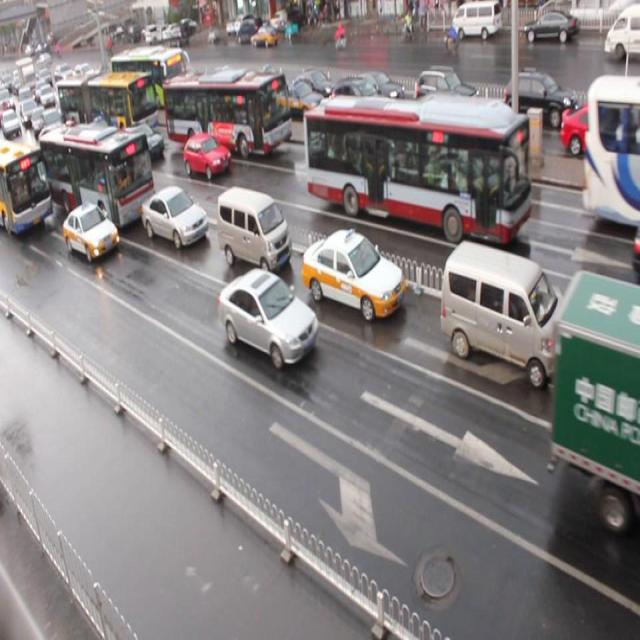bus: (550, 269, 640, 533)
car: (218, 269, 319, 369), (300, 228, 404, 321), (141, 185, 208, 250), (62, 202, 120, 263), (182, 132, 230, 180), (126, 121, 165, 162)
truck: (440, 240, 568, 386), (216, 186, 292, 276)
van: (304, 95, 528, 243), (38, 121, 156, 232), (163, 72, 290, 158), (582, 74, 640, 228), (58, 72, 158, 130), (1, 138, 54, 234)
